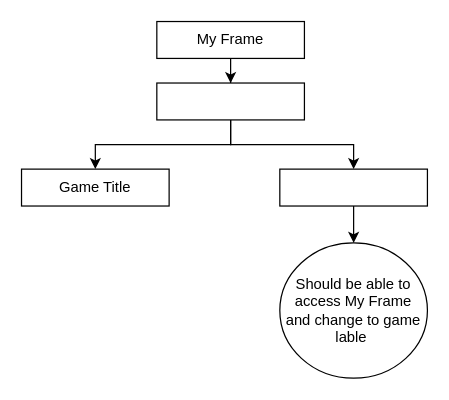
Image size: 449x400. Some labels were removed from this diagram. The shapes that lost their labels are listed below. From the top down, each one's centre as x and y in pixels, then its label:
point (230, 101): Main Lable
point (353, 187): Play button
